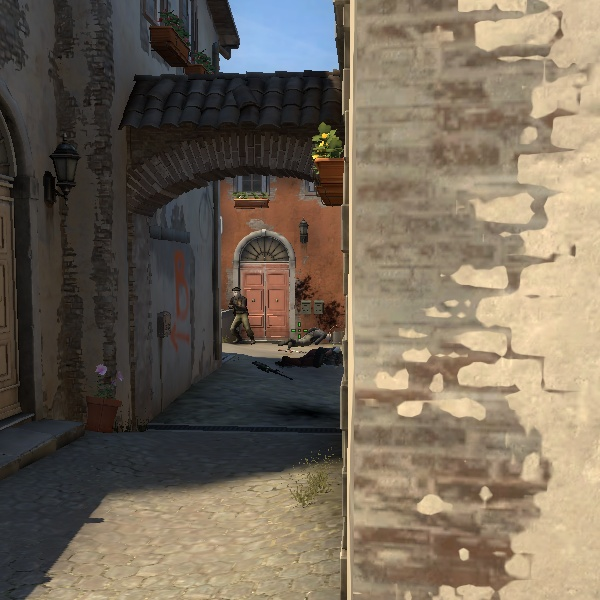ct_body: (224, 286, 252, 346)
